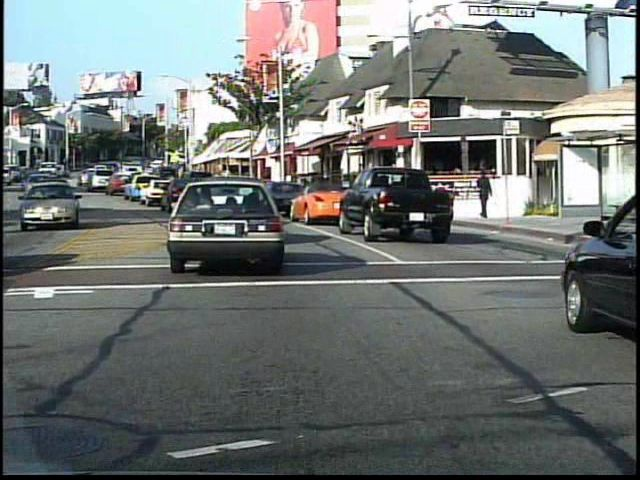person: (474, 170, 494, 224)
